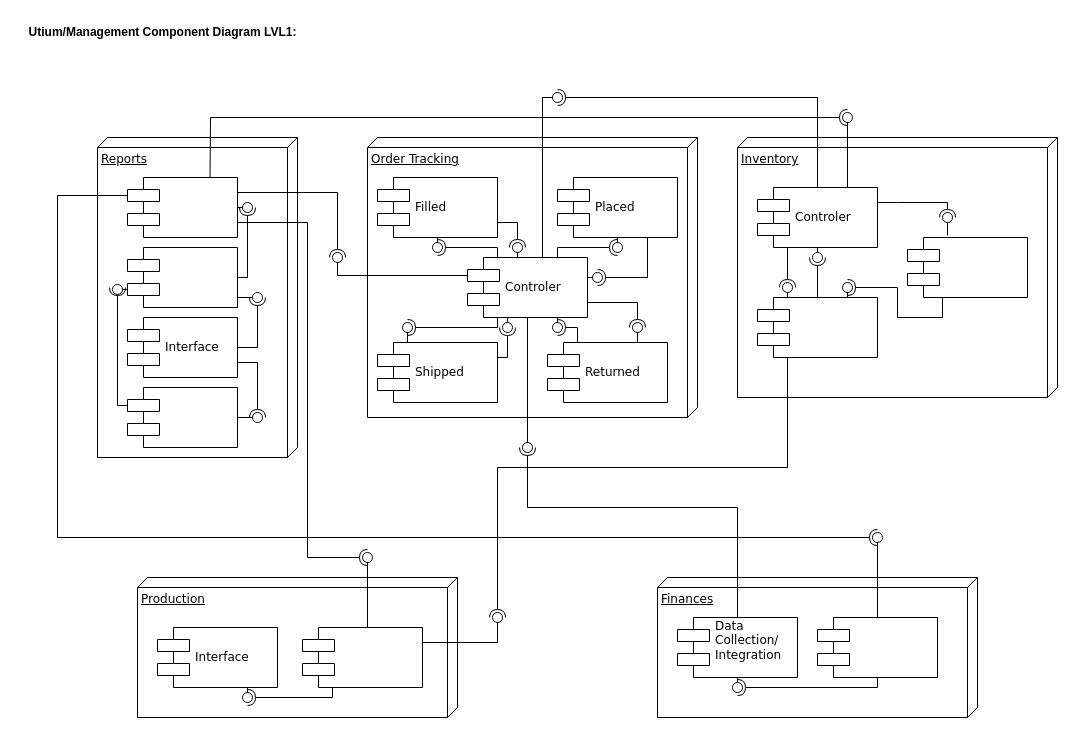
Some shapes in this 1075 by 735 pixel diagram are drawn without their labels. The centre of each missing label's shape, as x and y in pixels:
"Accounting" belongs at point (877, 647).
"Alerts" belongs at point (182, 417).
"Analysis" belongs at point (182, 207).
"AutoSupply" belongs at point (967, 267).
"Generator" belongs at point (182, 277).
"Stock" belongs at point (817, 327).
"Stock Updater" belongs at point (362, 657).
